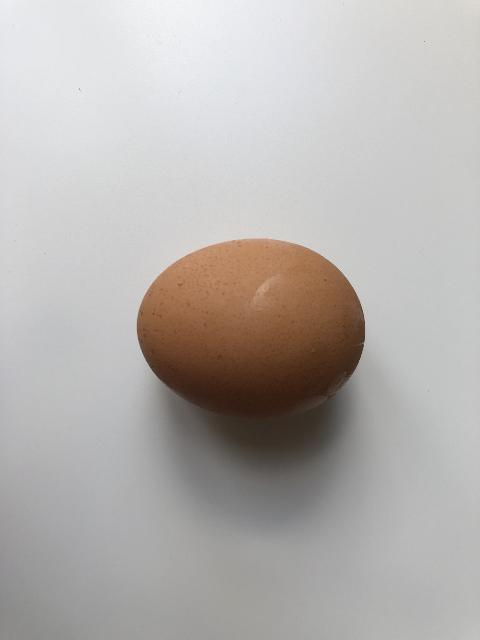Sano: (135, 236, 366, 420)
